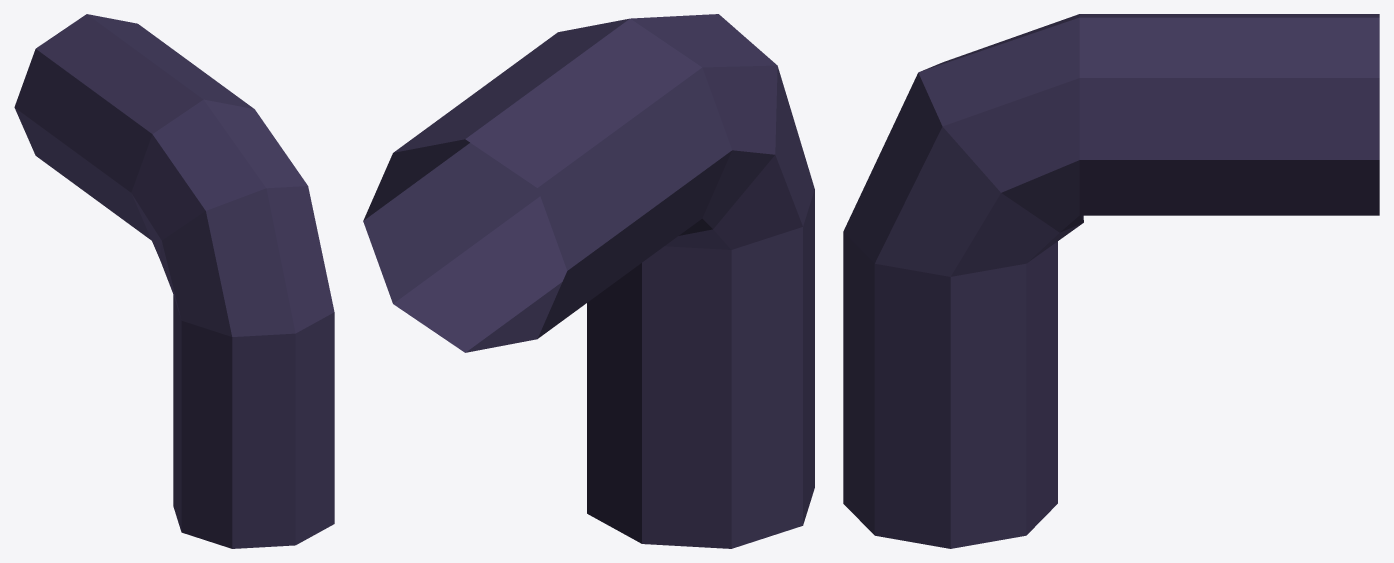
Rendered from Pipe_Up_Left_Corner.fbx.
The picture shows the model from 3 angles, left to right: view 1: azimuth 30°, elevation 25°; view 2: azimuth 150°, elevation 25°; view 3: azimuth 270°, elevation 25°; orthographic projection. The views are drawn at different scales.
Visible parts, largest first — view 1: Pipe_Left_Up_Corner; view 2: Pipe_Left_Up_Corner; view 3: Pipe_Left_Up_Corner.
Boxes of the visible parts, x1,y1,x2,y2 form: Pipe_Left_Up_Corner: (14,14,334,548); Pipe_Left_Up_Corner: (363,14,814,548); Pipe_Left_Up_Corner: (843,14,1379,548).
Bounding box in the file's own units: 0.25 × 0.625 × 0.625.
